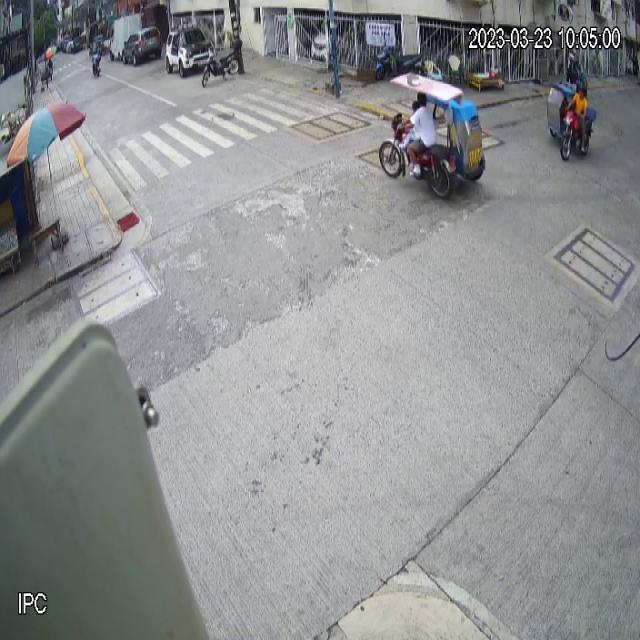Tricycle: (376, 71, 488, 199), (547, 84, 598, 163)
